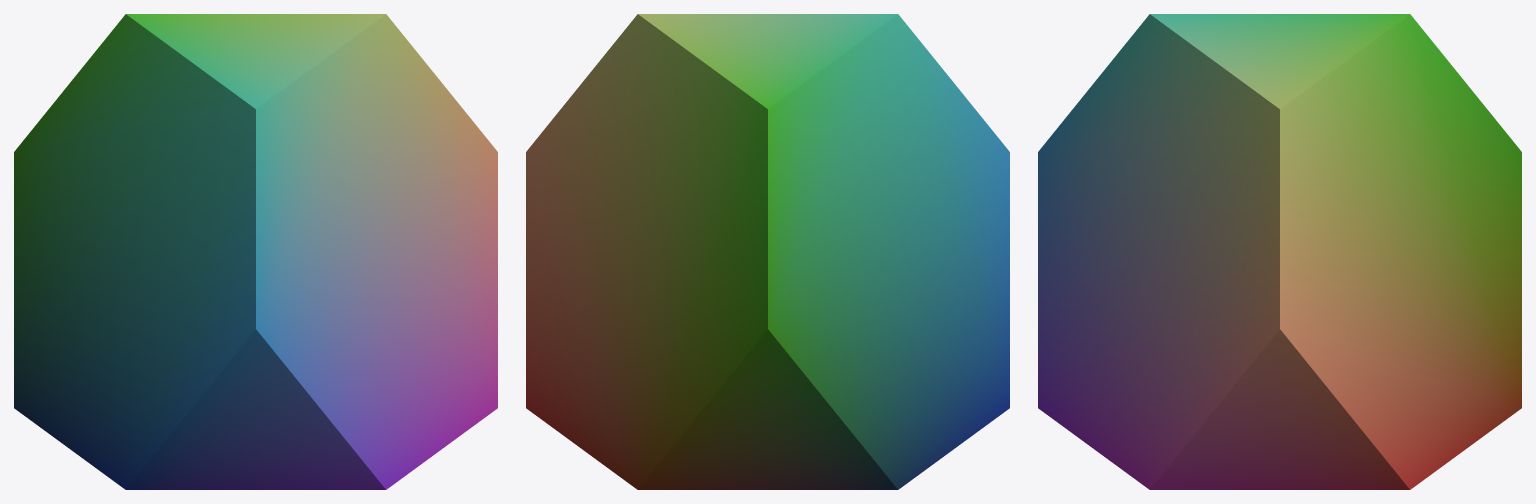
The model's file is zeometry-polyhedra-truncated-tetrahedron_v1.glb.
3 renders of one model, left to right at view 1: azimuth 30°, elevation 25°; view 2: azimuth 150°, elevation 25°; view 3: azimuth 270°, elevation 25°, orthographic.
Visible parts, largest first — view 1: Truncated Tetrahedron; view 2: Truncated Tetrahedron; view 3: Truncated Tetrahedron.
Part boxes in pixels (box(x1,y1,x2,y2)): Truncated Tetrahedron: box(14, 14, 497, 489); Truncated Tetrahedron: box(526, 14, 1009, 489); Truncated Tetrahedron: box(1038, 14, 1521, 489).
Bounding box in the file's own units: 0.5 × 0.3997 × 0.4895.
